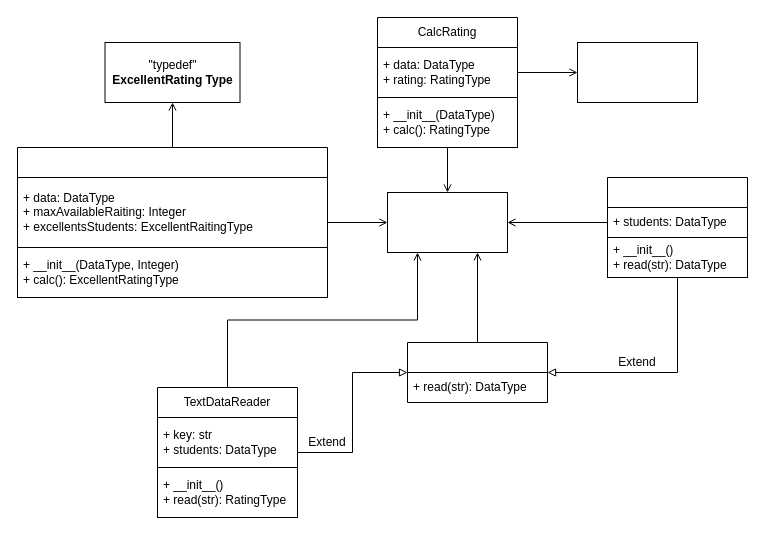
Some shapes in this 765 by 535 pixel diagram are drawn without their labels. Each missing label, with the box of its shape:
"typedef" Data Type: (386, 192, 508, 252)
"typedef" Rating Type: (576, 42, 698, 102)
DataReader: (406, 342, 548, 402)
ExcellentStudent: (16, 146, 328, 298)
XmlDataReader: (606, 176, 748, 278)
